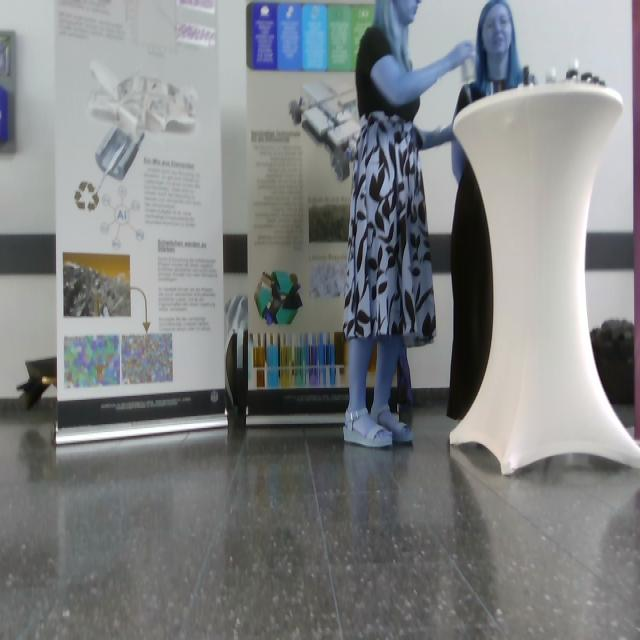door: (54, 1, 228, 445)
light bulb: (88, 58, 198, 181), (289, 80, 361, 181), (461, 53, 478, 85)
person: (342, 1, 476, 450)
pillar: (448, 76, 640, 476)
tiled floor: (1, 393, 639, 640)
